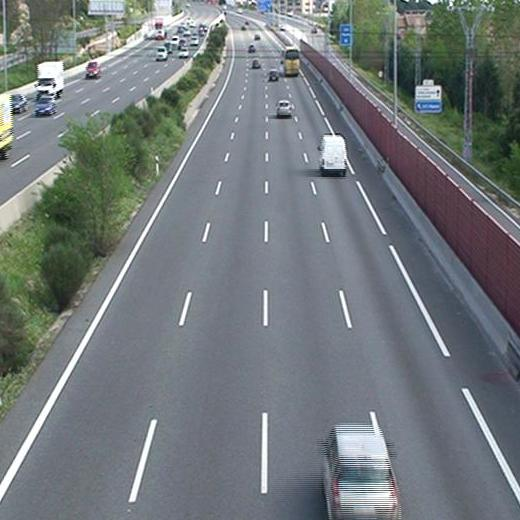bus: (284, 48, 300, 76)
car: (319, 424, 402, 520), (275, 100, 292, 118), (268, 69, 279, 82), (252, 58, 261, 69)
van: (318, 134, 347, 174)
